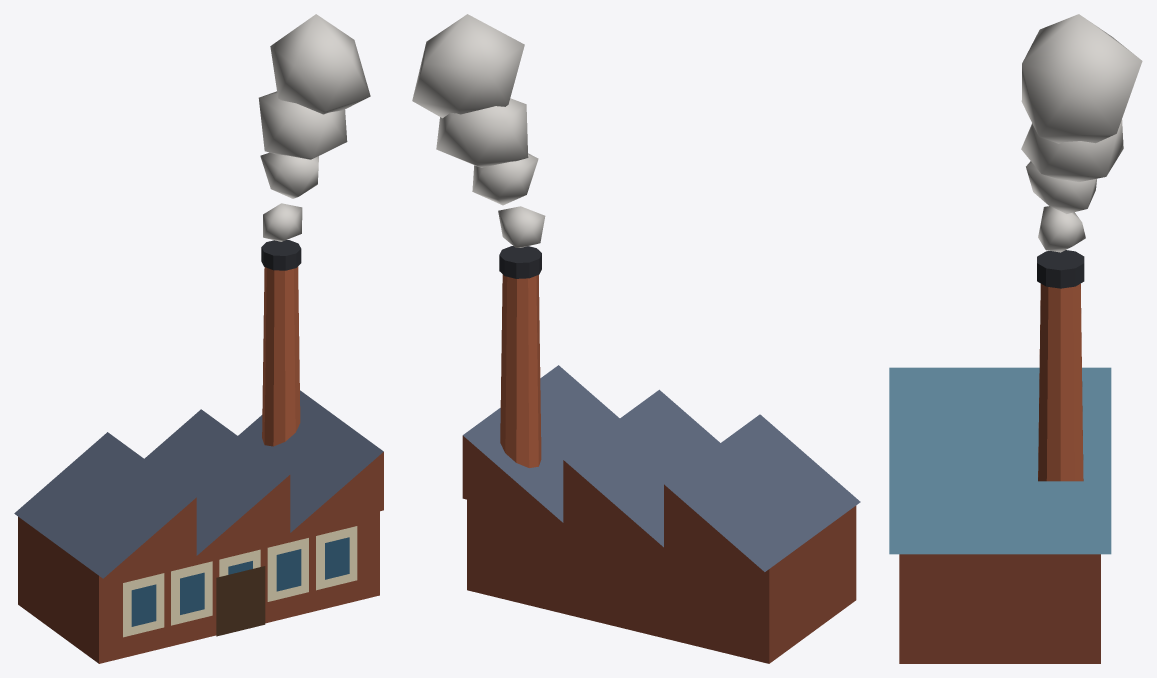
File: building_factory.fbx
3 renders of one model, left to right at view 1: azimuth 30°, elevation 25°; view 2: azimuth 150°, elevation 25°; view 3: azimuth 270°, elevation 25°, orthographic. The views are drawn at different scales.
Visible parts, largest first — view 1: building_factory; view 2: building_factory; view 3: building_factory.
Part boxes in pixels (left/top/right/bottom): building_factory: left=14, top=14, right=383, bottom=663; building_factory: left=412, top=14, right=860, bottom=663; building_factory: left=889, top=14, right=1142, bottom=663.
Size of the model in its own units: 46.67 by 71.71 by 25.12.
